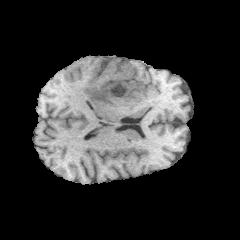glioma: (79, 68, 148, 106)
